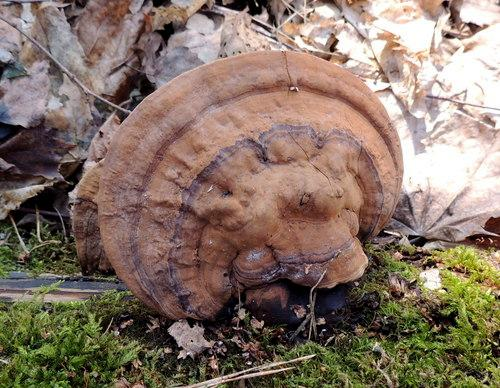Ganoderma - Fruit Body: (95, 38, 408, 326)
